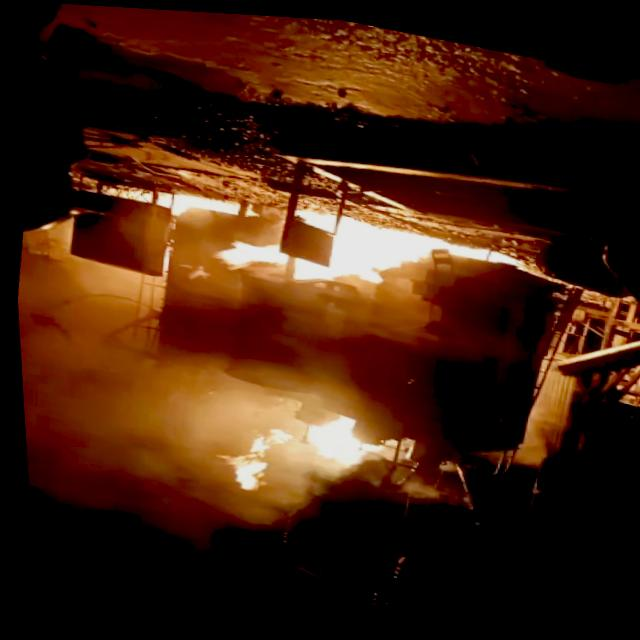Fire: (206, 188, 526, 322)
Smoke: (9, 196, 458, 597)
